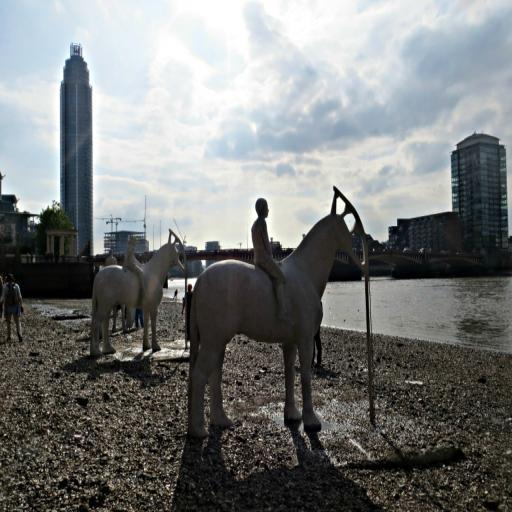horse: (184, 182, 376, 443), (88, 224, 190, 358)
